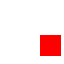square: (40, 35, 60, 55)
